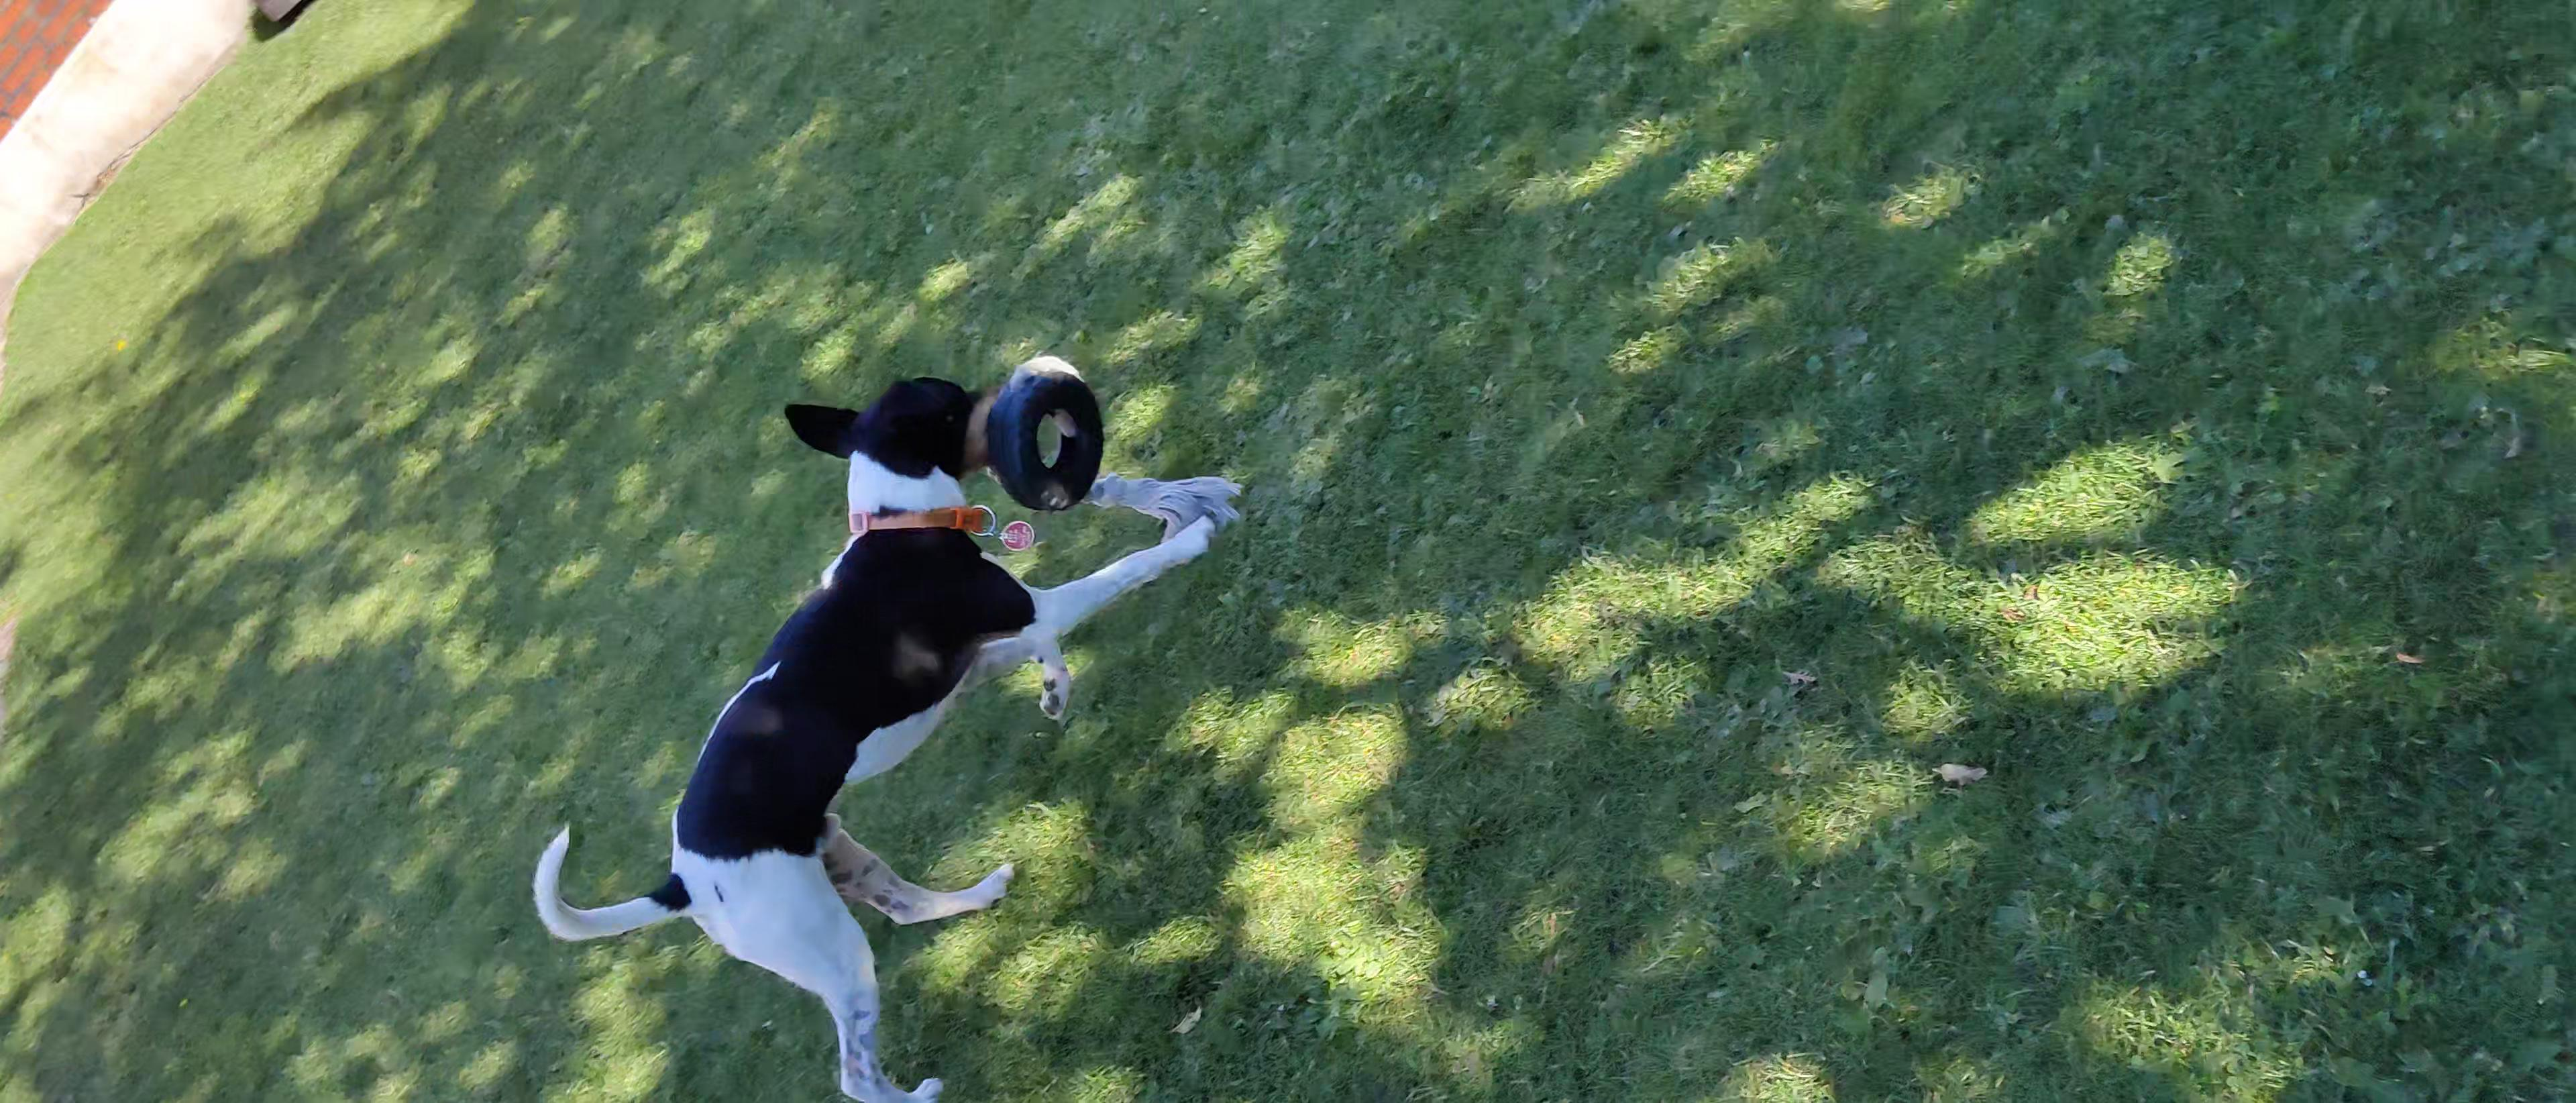Dog: (491, 365, 1226, 1103)
